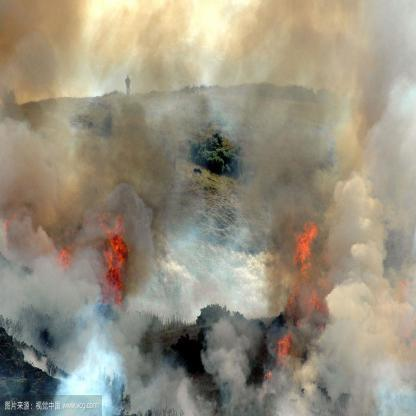fire: (104, 237, 122, 286), (296, 230, 310, 262)
